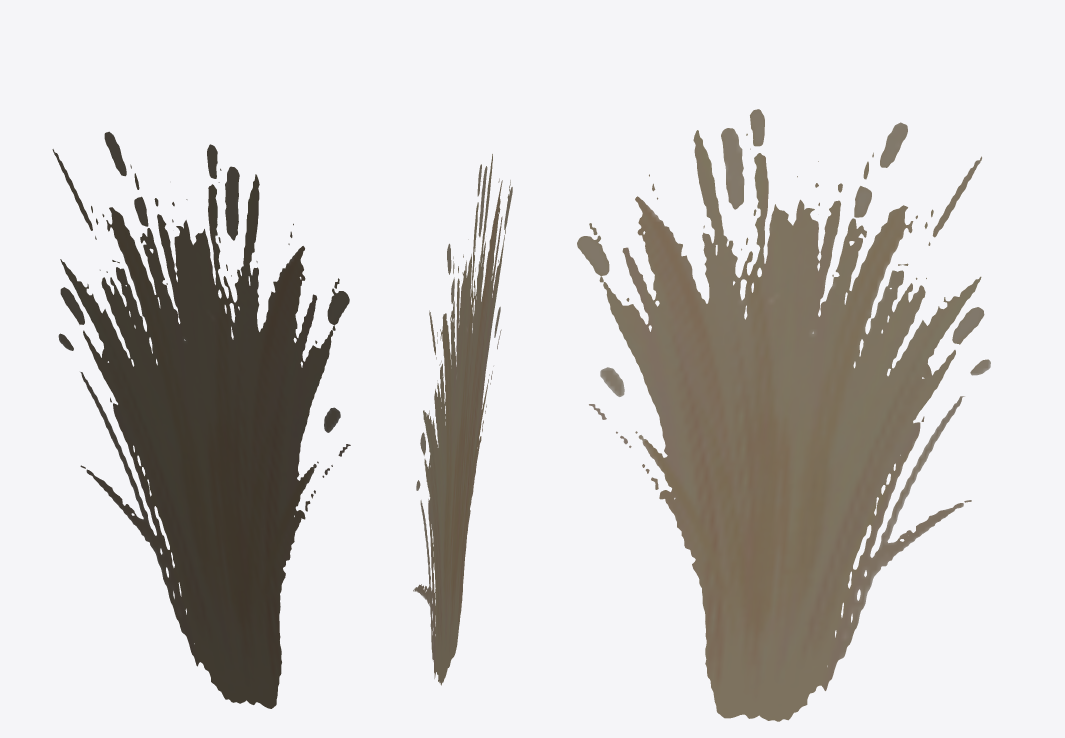
File: grass1_001.fbx
3 views of the same model, side by side, from view 1: azimuth 30°, elevation 25°; view 2: azimuth 150°, elevation 25°; view 3: azimuth 270°, elevation 25° (orthographic). The views are drawn at different scales.
Visible parts, largest first — view 1: grass1.001; view 2: grass1.001; view 3: grass1.001.
Part boxes in pixels (box(x1,y1,x2,y2)): grass1.001: box(52, 131, 350, 708); grass1.001: box(413, 154, 512, 685); grass1.001: box(577, 109, 990, 721).
Bounding box in the file's own units: 46.46 × 235 × 150.
